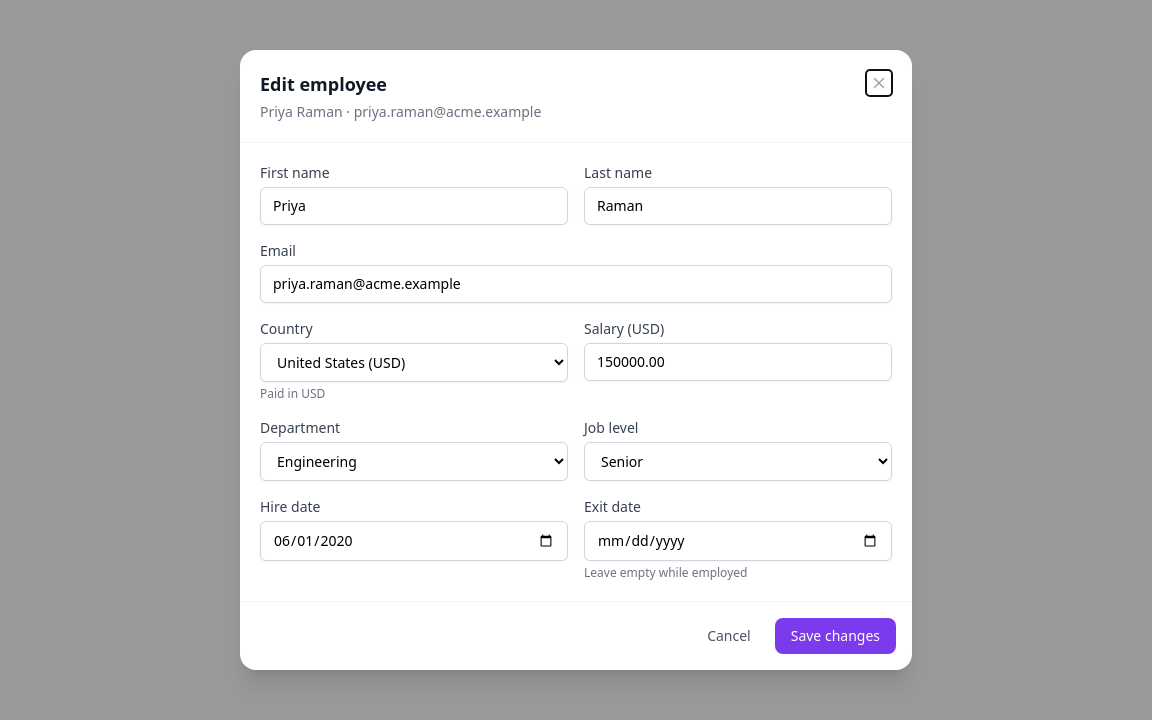
Test: validation happens before the request › rejects a salary typed with separators or a symbol
Replace the text in the field labelled "Salary (USD)" with "$150,000" at coordinates (738, 362), box top-left (584, 343), bottom-right (892, 381)
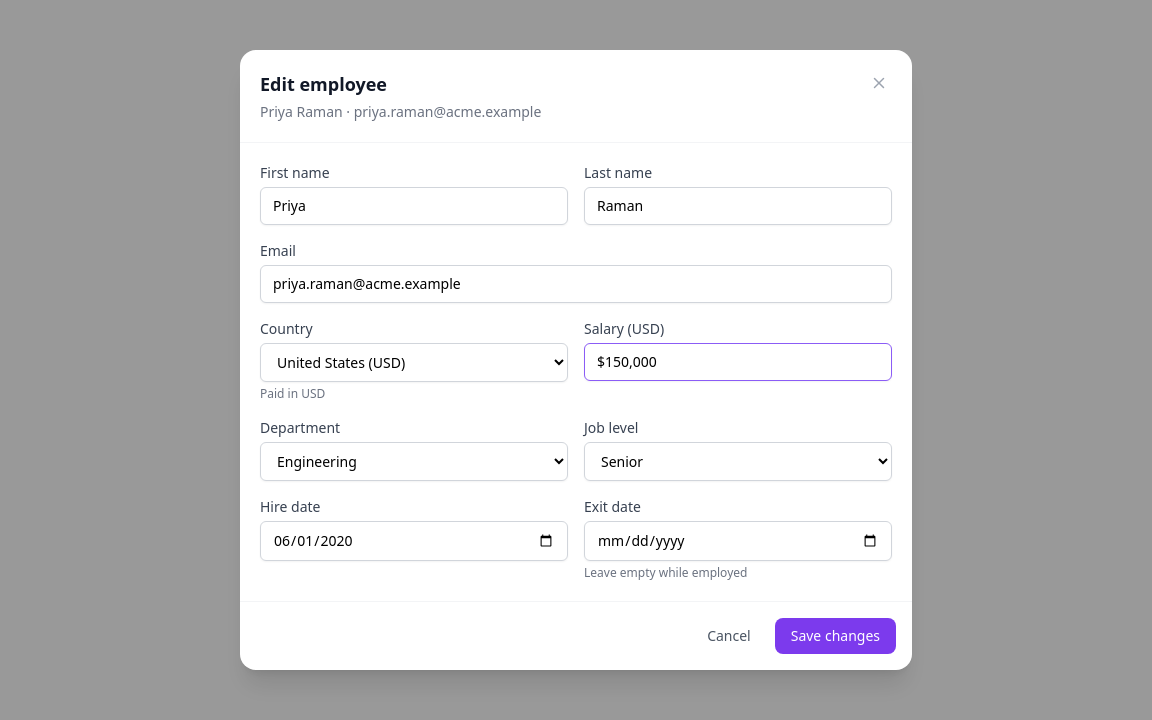
Click the button "Save changes" at coordinates (835, 636), box top-left (775, 618), bottom-right (896, 654)
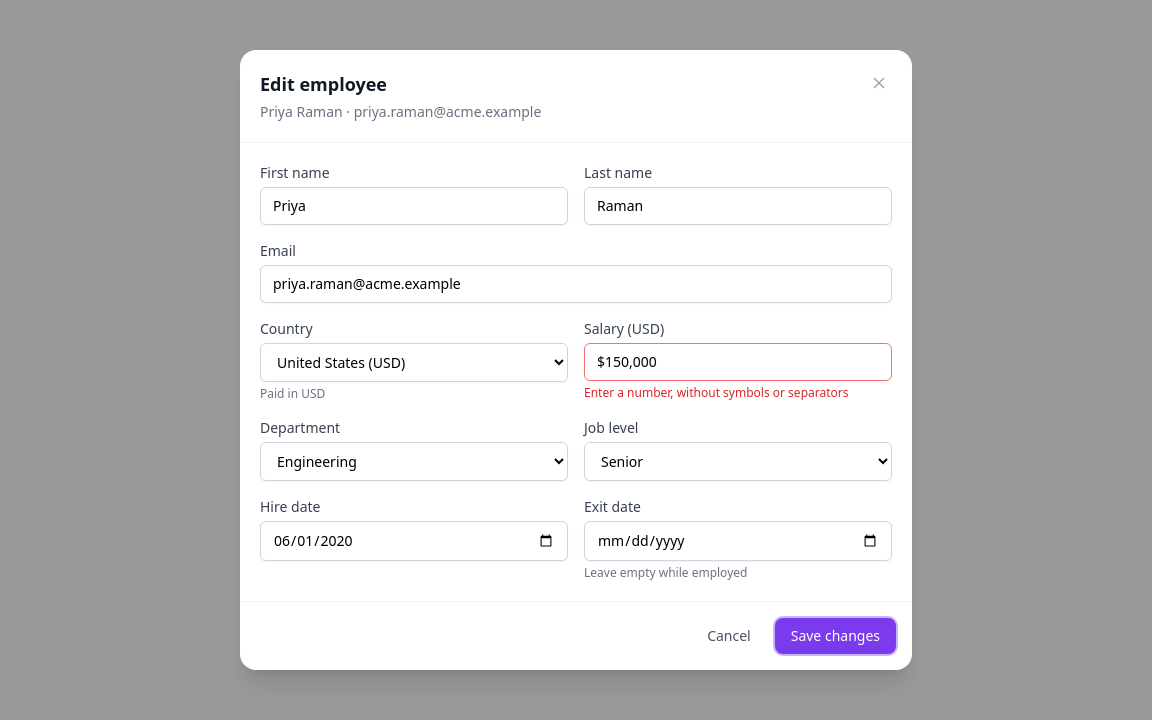
Expected: the text "Enter a number, without symbols or separators" is shown, top-left (584, 385), bottom-right (892, 401)
